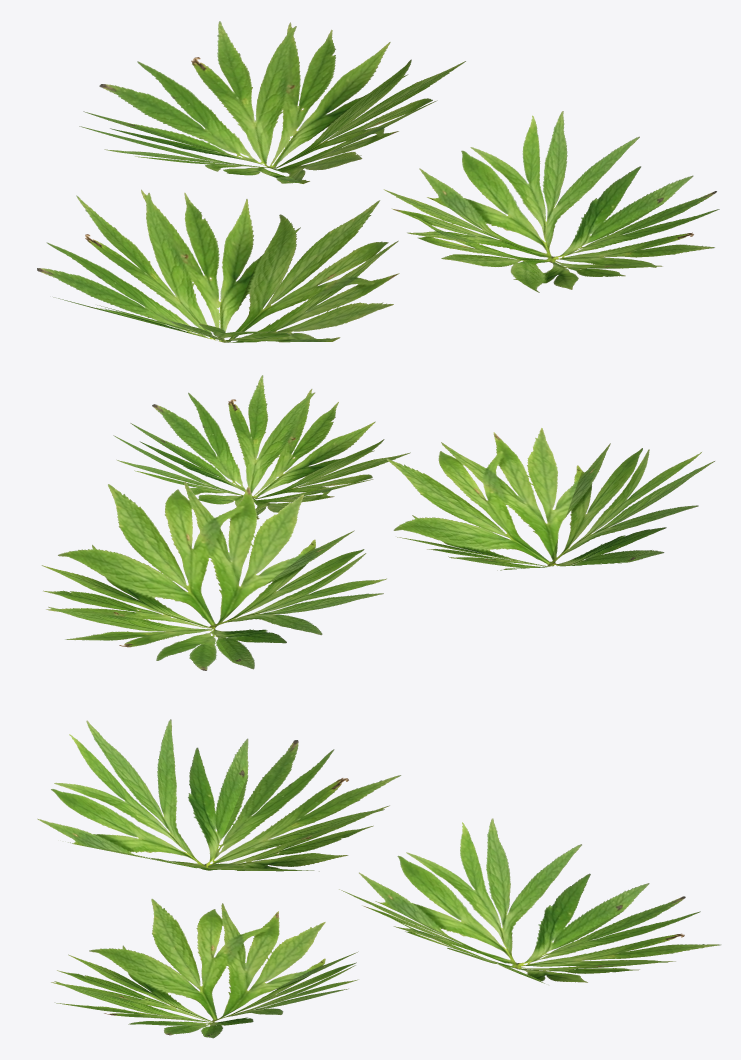
File: GroundFoliage8-2.fbx
3 views of the same model, one above another, from view 1: azimuth 30°, elevation 25°; view 2: azimuth 150°, elevation 25°; view 3: azimuth 270°, elevation 25° (orthographic). The views are drawn at different scales.
Visible parts, largest first — view 1: GroundFoliage8-2; view 2: GroundFoliage8-2; view 3: GroundFoliage8-2.
Part boxes in pixels (left/top/right/bottom): GroundFoliage8-2: left=37, top=21, right=719, bottom=342; GroundFoliage8-2: left=41, top=375, right=714, bottom=670; GroundFoliage8-2: left=37, top=719, right=721, bottom=1038.
Bounding box in the file's own units: 161 × 27.35 × 159.
